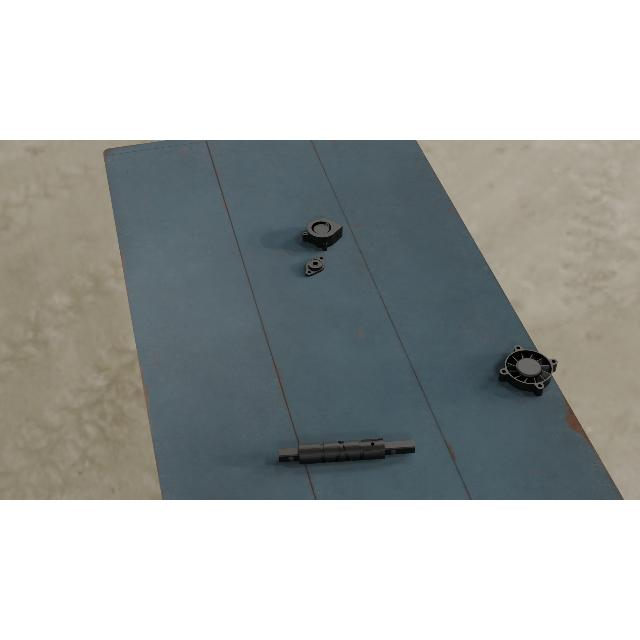Pieza1: (278, 432, 416, 470)
Pieza2: (300, 252, 330, 278)
Pieza3: (301, 215, 343, 252)
Pieza4: (496, 344, 560, 398)
